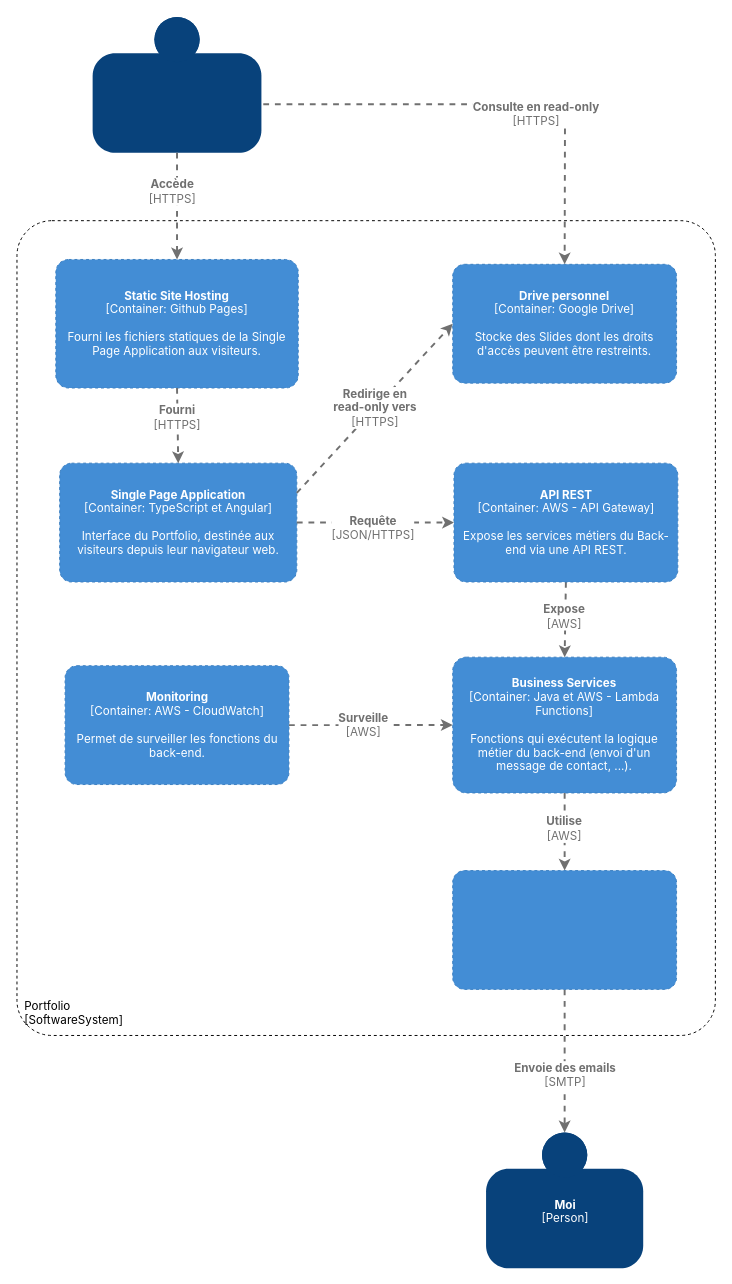
The diagram is 732 pixels wide and 1284 high, and some of its shapes have lost their labels. The centre of each missing label's shape, as x and y in pixels:
Email Service [Container: AWS - SES] Service de messagerie électronique.: the point at 564,929
Visiteur [Person] Un visiteur du portfolio.: the point at 176,84
